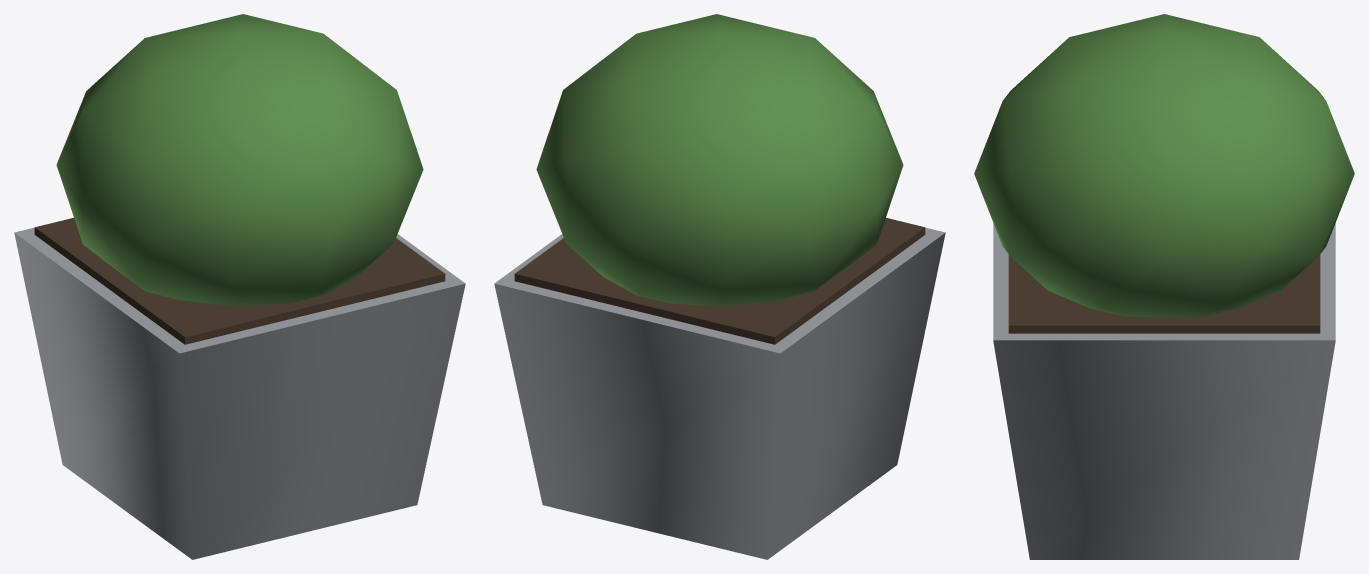
File: planter.glb
3 renders of one model, left to right at view 1: azimuth 30°, elevation 25°; view 2: azimuth 150°, elevation 25°; view 3: azimuth 270°, elevation 25°, orthographic. The views are drawn at different scales.
Size of the model in its own units: 0.44 by 0.596 by 0.44.
